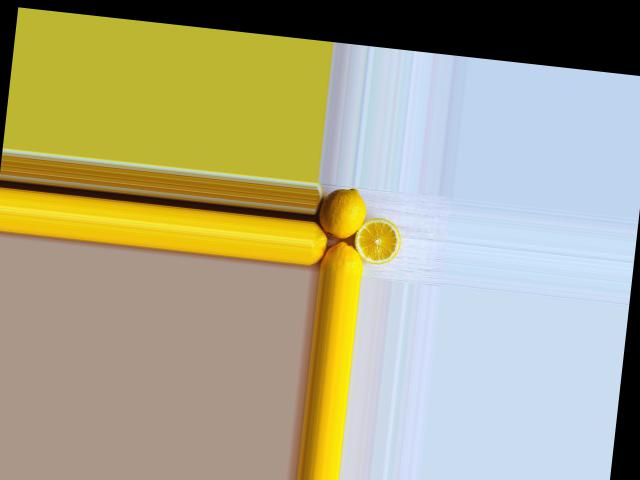lemon: (323, 239, 365, 276)
